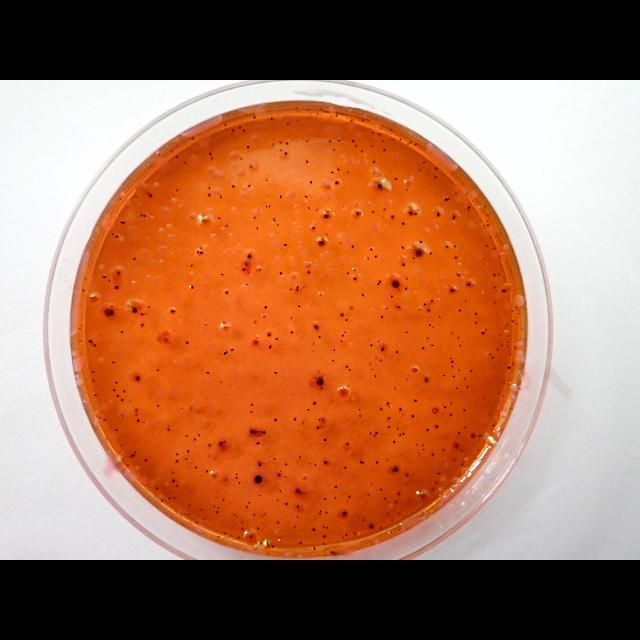colony: (315, 374, 325, 386), (252, 474, 264, 484), (391, 278, 401, 290), (104, 307, 115, 317), (452, 441, 461, 449), (375, 182, 383, 190), (132, 306, 138, 314), (391, 466, 399, 472), (368, 522, 374, 530), (416, 250, 422, 257), (135, 375, 141, 381), (218, 440, 224, 446), (249, 428, 255, 434), (470, 432, 476, 438), (404, 472, 410, 478), (342, 510, 348, 516), (294, 488, 300, 494), (222, 350, 228, 356), (339, 312, 345, 318), (313, 400, 317, 406), (268, 344, 272, 350), (267, 332, 271, 338), (396, 490, 400, 496), (248, 534, 252, 540), (246, 254, 252, 258), (323, 214, 329, 218), (272, 371, 278, 374), (133, 257, 137, 261), (102, 275, 106, 279), (115, 285, 119, 289), (81, 288, 85, 292), (140, 312, 144, 316), (140, 323, 144, 327), (120, 330, 124, 334), (112, 388, 116, 392), (122, 389, 126, 393), (116, 394, 120, 398), (120, 398, 124, 402), (103, 418, 107, 422), (115, 428, 119, 432), (136, 419, 140, 423), (134, 408, 138, 412), (175, 452, 179, 456), (205, 469, 209, 473), (208, 443, 212, 447), (197, 434, 201, 438), (250, 403, 254, 407), (262, 430, 266, 434), (256, 441, 260, 445), (274, 418, 278, 422), (306, 408, 310, 412), (345, 364, 349, 368), (348, 368, 352, 372), (318, 335, 322, 339), (314, 325, 318, 329), (290, 330, 294, 334), (275, 337, 279, 341), (264, 305, 268, 309), (332, 348, 336, 352), (380, 347, 384, 351), (450, 289, 454, 293), (458, 308, 462, 312), (474, 312, 478, 316), (452, 458, 456, 462), (460, 463, 464, 467), (411, 414, 415, 418), (358, 414, 362, 418), (323, 437, 327, 441), (324, 460, 328, 464), (343, 465, 347, 469), (360, 460, 364, 464), (318, 512, 322, 516), (284, 502, 288, 506), (312, 527, 316, 531), (322, 534, 326, 538), (394, 500, 398, 504), (277, 472, 281, 476), (284, 462, 288, 466), (258, 463, 262, 467), (256, 526, 260, 530), (275, 498, 279, 502), (230, 347, 234, 351), (404, 287, 408, 291), (378, 280, 382, 284), (402, 263, 406, 267), (401, 245, 405, 249), (419, 240, 423, 244), (454, 256, 458, 260), (458, 272, 462, 276), (466, 282, 470, 286), (156, 368, 160, 372), (208, 152, 212, 156), (249, 164, 253, 168), (312, 546, 316, 550), (206, 371, 210, 375), (171, 309, 175, 313), (190, 285, 194, 289), (279, 271, 283, 275), (391, 215, 395, 219), (408, 211, 412, 215), (112, 360, 115, 364), (115, 381, 119, 384), (122, 414, 125, 418), (98, 416, 102, 419), (187, 449, 190, 453), (316, 426, 320, 429), (392, 441, 396, 444), (383, 496, 387, 499), (334, 496, 338, 499), (324, 511, 328, 514), (386, 512, 389, 516), (238, 481, 242, 484), (252, 512, 255, 516), (381, 314, 384, 318), (396, 305, 399, 309), (391, 294, 394, 298), (436, 213, 439, 217), (121, 220, 125, 223), (351, 118, 354, 122), (434, 167, 438, 170), (426, 428, 429, 432), (331, 550, 334, 554), (190, 263, 193, 267), (242, 268, 245, 272), (312, 227, 316, 230), (372, 160, 376, 163), (180, 406, 183, 409), (222, 441, 225, 444), (426, 336, 429, 339), (506, 341, 509, 344), (235, 476, 238, 479), (217, 506, 220, 509), (451, 361, 454, 364), (115, 235, 118, 238), (197, 250, 200, 253), (117, 272, 121, 274), (109, 278, 111, 282), (78, 328, 82, 330), (78, 340, 82, 342), (88, 340, 92, 342), (94, 343, 96, 347), (92, 371, 96, 373), (94, 394, 98, 396), (128, 400, 132, 402), (156, 404, 160, 406), (167, 428, 171, 430), (168, 424, 170, 428), (186, 434, 188, 438), (175, 460, 179, 462), (194, 437, 196, 441), (294, 417, 296, 421), (331, 360, 335, 362), (298, 304, 300, 308), (290, 316, 292, 320), (342, 334, 344, 338), (374, 374, 376, 378), (368, 362, 372, 364), (380, 358, 382, 362), (422, 346, 424, 350), (428, 324, 432, 326), (428, 308, 430, 312), (424, 302, 426, 306), (464, 300, 468, 302), (474, 322, 478, 324), (485, 328, 487, 332), (482, 330, 484, 334), (514, 323, 518, 325), (512, 362, 514, 366), (507, 366, 511, 368), (488, 354, 492, 356), (502, 394, 504, 398), (488, 414, 492, 416), (492, 423, 494, 427), (464, 426, 468, 428), (460, 448, 462, 452), (442, 448, 444, 452), (432, 452, 434, 456), (422, 444, 424, 448), (379, 408, 383, 410), (386, 402, 390, 404), (398, 408, 402, 410), (372, 434, 376, 436), (358, 408, 360, 412), (314, 463, 316, 467), (380, 487, 382, 491), (371, 482, 373, 486), (368, 492, 370, 496), (296, 506, 300, 508), (322, 526, 326, 528), (345, 532, 347, 536), (334, 486, 338, 488), (278, 490, 282, 492), (298, 456, 302, 458), (236, 472, 238, 476), (176, 484, 178, 488), (188, 512, 190, 516), (272, 544, 274, 548), (276, 522, 280, 524), (246, 505, 248, 509), (258, 494, 262, 496), (322, 418, 324, 422), (346, 318, 348, 322), (386, 306, 388, 310), (378, 282, 380, 286), (412, 256, 414, 260), (452, 216, 456, 218), (444, 198, 448, 200), (492, 274, 496, 276), (498, 273, 500, 277), (494, 286, 496, 290), (502, 290, 506, 292), (494, 300, 496, 304), (459, 344, 461, 348), (426, 378, 428, 382), (144, 460, 148, 462), (131, 454, 135, 456), (140, 214, 144, 216), (150, 194, 152, 198), (176, 188, 178, 192), (192, 136, 194, 140), (211, 156, 213, 160), (232, 128, 234, 132), (270, 116, 272, 120), (378, 132, 380, 136), (392, 138, 396, 140), (414, 143, 418, 145), (382, 149, 386, 151), (422, 161, 426, 163), (434, 176, 438, 178), (492, 248, 496, 250), (463, 408, 465, 412), (284, 152, 288, 154), (328, 140, 332, 142), (338, 138, 340, 142), (315, 134, 317, 138), (394, 178, 398, 180), (406, 188, 408, 192), (118, 198, 122, 200), (298, 542, 302, 544), (220, 274, 224, 276), (258, 268, 262, 270), (272, 220, 276, 222), (316, 208, 318, 212), (357, 211, 359, 215), (226, 290, 228, 294), (296, 288, 298, 292), (308, 270, 310, 274), (367, 256, 369, 260), (352, 244, 354, 248), (185, 458, 188, 460), (195, 466, 198, 468), (250, 411, 252, 414), (320, 386, 322, 389), (344, 331, 346, 334), (378, 341, 380, 344), (396, 351, 398, 354), (431, 344, 434, 346), (431, 300, 434, 302), (511, 310, 514, 312), (346, 442, 349, 444), (376, 461, 378, 464), (391, 519, 394, 521), (172, 480, 175, 482), (156, 486, 158, 489), (160, 500, 163, 502), (195, 522, 198, 524), (202, 517, 205, 519), (216, 511, 218, 514), (222, 498, 225, 500), (248, 501, 250, 504), (302, 421, 304, 424), (446, 245, 448, 248), (454, 245, 456, 248), (466, 208, 469, 210), (486, 224, 489, 226), (457, 336, 459, 339), (451, 332, 454, 334), (394, 386, 396, 389), (112, 232, 114, 235), (144, 215, 146, 218), (225, 124, 228, 126), (239, 125, 241, 128), (254, 115, 256, 118), (371, 145, 374, 147), (247, 146, 250, 148), (331, 171, 334, 173), (336, 168, 339, 170), (310, 180, 312, 183), (269, 205, 271, 208), (248, 185, 250, 188), (232, 185, 234, 188), (208, 187, 210, 190), (200, 247, 202, 250), (200, 250, 202, 253), (256, 227, 258, 230), (308, 207, 310, 210), (372, 210, 374, 213), (226, 225, 228, 228), (346, 272, 349, 274), (321, 242, 324, 244), (148, 306, 150, 308), (145, 313, 147, 315), (92, 380, 94, 382), (135, 414, 137, 416), (143, 421, 145, 423), (341, 340, 343, 342), (371, 368, 373, 370), (370, 344, 372, 346), (432, 326, 434, 328), (439, 316, 441, 318), (499, 334, 501, 336), (501, 344, 503, 346), (496, 348, 498, 350), (506, 345, 508, 347), (509, 353, 511, 355), (506, 323, 508, 325), (512, 320, 514, 322), (518, 313, 520, 315), (516, 306, 518, 308), (519, 309, 521, 311), (506, 335, 508, 337), (514, 346, 516, 348), (492, 356, 494, 358), (503, 382, 505, 384), (498, 392, 500, 394), (480, 434, 482, 436), (478, 435, 480, 437), (458, 432, 460, 434), (438, 472, 440, 474), (422, 448, 424, 450), (416, 444, 418, 446), (399, 434, 401, 436), (402, 433, 404, 435), (388, 426, 390, 428), (397, 428, 399, 430), (388, 417, 390, 419), (414, 400, 416, 402), (376, 432, 378, 434), (370, 432, 372, 434), (308, 462, 310, 464), (348, 496, 350, 498), (324, 498, 326, 500), (320, 510, 322, 512), (297, 516, 299, 518), (294, 526, 296, 528), (326, 526, 328, 528), (322, 542, 324, 544), (324, 544, 326, 546), (342, 536, 344, 538), (362, 519, 364, 521), (380, 526, 382, 528), (284, 476, 286, 478), (274, 458, 276, 460), (225, 478, 227, 480), (168, 498, 170, 500), (200, 508, 202, 510), (214, 506, 216, 508), (215, 497, 217, 499), (234, 514, 236, 516), (236, 516, 238, 518), (241, 521, 243, 523), (242, 528, 244, 530), (238, 537, 240, 539), (229, 535, 231, 537), (224, 532, 226, 534), (260, 542, 262, 544), (264, 513, 266, 515), (329, 463, 331, 465), (318, 418, 320, 420), (297, 430, 299, 432), (406, 278, 408, 280), (430, 252, 432, 254), (468, 206, 470, 208), (486, 220, 488, 222), (489, 236, 491, 238), (486, 244, 488, 246), (450, 357, 452, 359), (458, 369, 460, 371), (470, 370, 472, 372), (453, 375, 455, 377), (443, 374, 445, 376), (347, 385, 349, 387), (172, 471, 174, 473), (174, 497, 176, 499), (188, 504, 190, 506), (234, 523, 236, 525), (244, 548, 246, 550), (266, 553, 268, 555), (262, 538, 264, 540), (134, 451, 136, 453), (127, 464, 129, 466), (121, 444, 123, 446), (184, 162, 186, 164), (176, 156, 178, 158), (171, 150, 173, 152), (158, 153, 160, 155), (243, 130, 245, 132), (287, 123, 289, 125), (289, 121, 291, 123), (296, 107, 298, 109), (297, 120, 299, 122), (308, 109, 310, 111), (362, 120, 364, 122), (372, 132, 374, 134), (390, 129, 392, 131), (400, 139, 402, 141), (409, 142, 411, 144), (407, 143, 409, 145), (382, 140, 384, 142), (484, 205, 486, 207), (466, 386, 468, 388), (456, 387, 458, 389), (450, 402, 452, 404), (444, 406, 446, 408), (450, 414, 452, 416), (436, 425, 438, 427), (280, 142, 282, 144), (286, 142, 288, 144), (280, 149, 282, 151), (306, 140, 308, 142), (333, 149, 335, 151), (352, 140, 354, 142), (355, 145, 357, 147), (361, 150, 363, 152), (419, 169, 421, 171), (336, 182, 338, 184), (347, 171, 349, 173), (305, 196, 307, 198), (280, 196, 282, 198), (266, 206, 268, 208), (266, 180, 268, 182), (208, 194, 210, 196), (220, 194, 222, 196), (220, 196, 222, 198), (240, 158, 242, 160), (135, 196, 137, 198), (186, 342, 188, 344), (128, 456, 130, 458), (284, 244, 286, 246), (235, 267, 237, 269), (254, 217, 256, 219), (273, 217, 275, 219), (277, 224, 279, 226), (359, 211, 361, 213), (383, 208, 385, 210), (402, 222, 404, 224), (415, 213, 417, 215), (306, 160, 308, 162), (218, 217, 220, 219), (290, 288, 292, 290), (297, 286, 299, 288), (303, 286, 305, 288), (354, 278, 356, 280), (375, 256, 377, 258), (370, 248, 372, 250), (362, 294, 364, 296), (448, 198, 449, 200), (452, 366, 453, 368), (337, 115, 338, 117), (327, 233, 328, 235), (279, 538, 281, 538), (298, 110, 298, 112), (318, 113, 318, 115), (246, 284, 248, 284), (342, 263, 342, 265)
